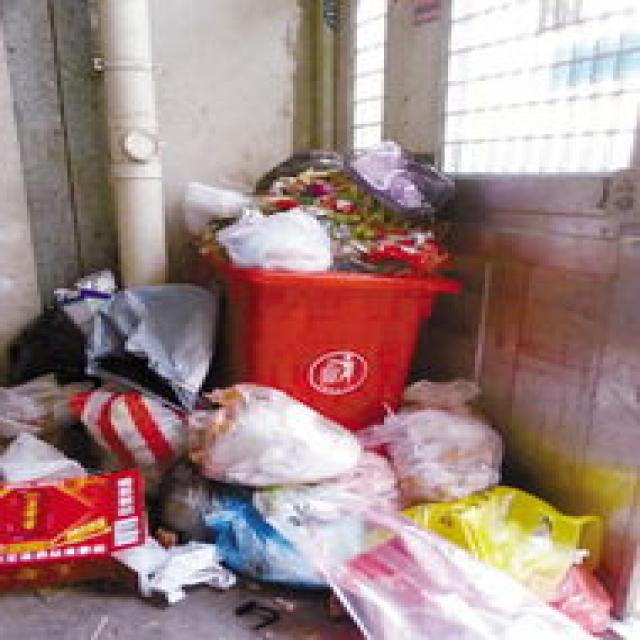garbage: (0, 266, 637, 635)
overflow: (182, 136, 461, 428)
